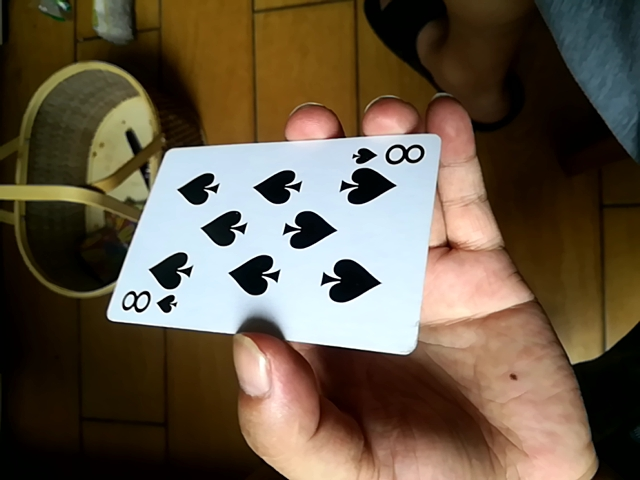ht 8: (108, 128, 443, 358)
